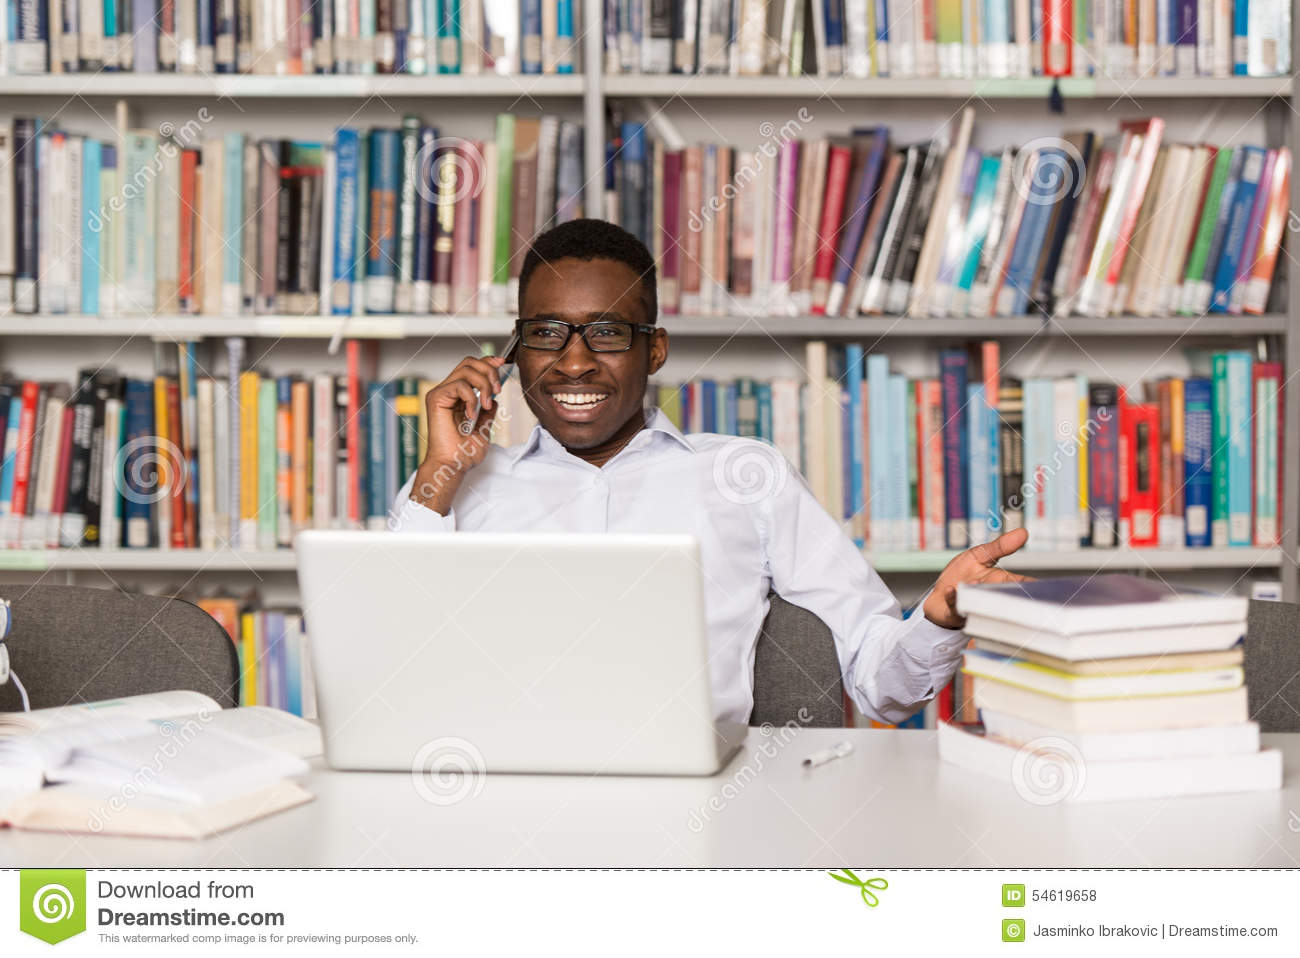phone: (465, 325, 521, 430)
talk: (420, 303, 638, 481)
